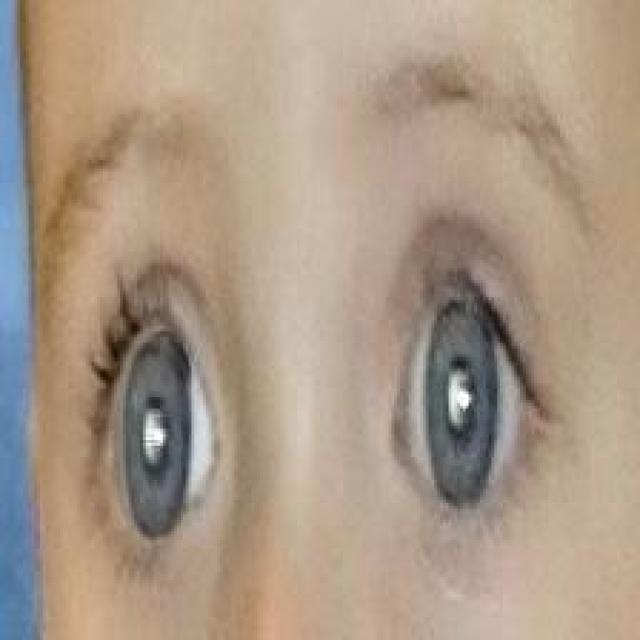reflexo-alterado: (362, 250, 566, 526), (71, 315, 245, 557)
